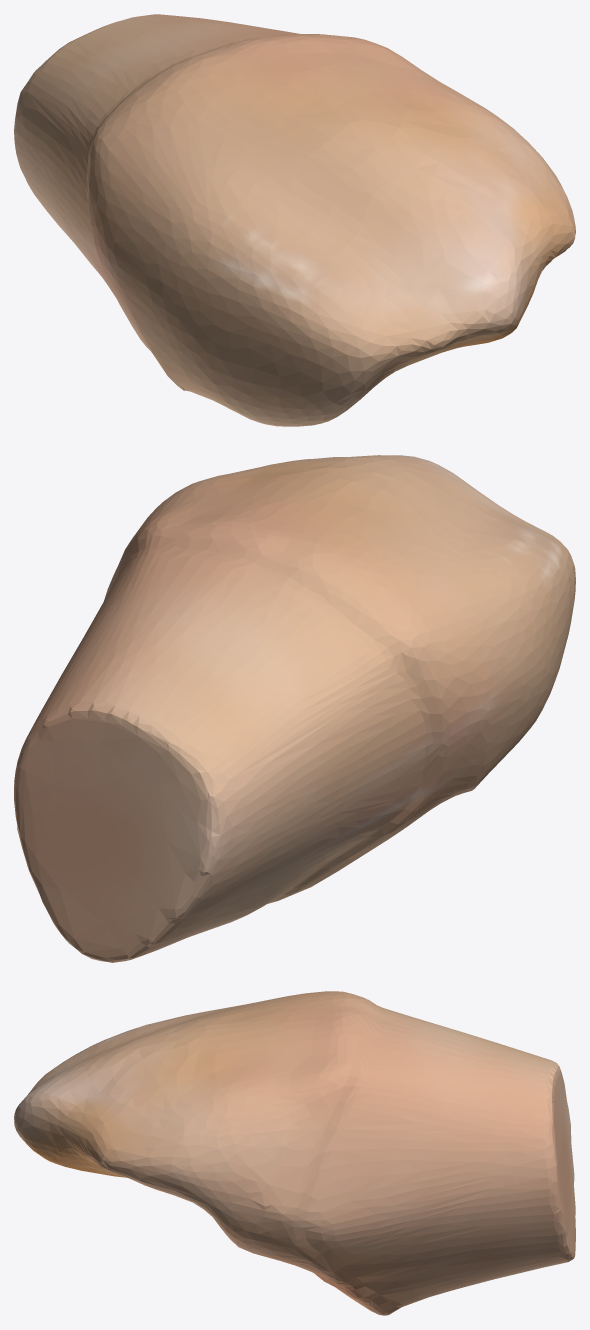
The model's file is local_t43_7780.OBJ.
The picture shows the model from 3 angles, top to bottom: view 1: azimuth 30°, elevation 25°; view 2: azimuth 150°, elevation 25°; view 3: azimuth 270°, elevation 25°; orthographic projection. The views are drawn at different scales.
Parts seen in each view (by area): view 1: ZBrush_defualt_group; view 2: ZBrush_defualt_group; view 3: ZBrush_defualt_group.
Part boxes in pixels (left/top/right/bottom): ZBrush_defualt_group: left=14, top=14, right=575, bottom=426; ZBrush_defualt_group: left=14, top=455, right=575, bottom=962; ZBrush_defualt_group: left=14, top=991, right=575, bottom=1315.
Bounding box in the file's own units: 7.24 × 6.79 × 12.04.
1 material, 1 textured.
